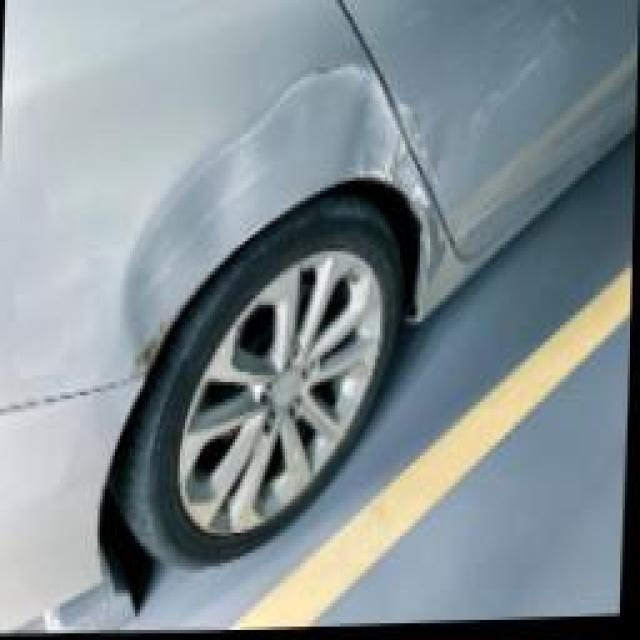Door: (288, 0, 640, 256)
Fender: (0, 0, 469, 465)
